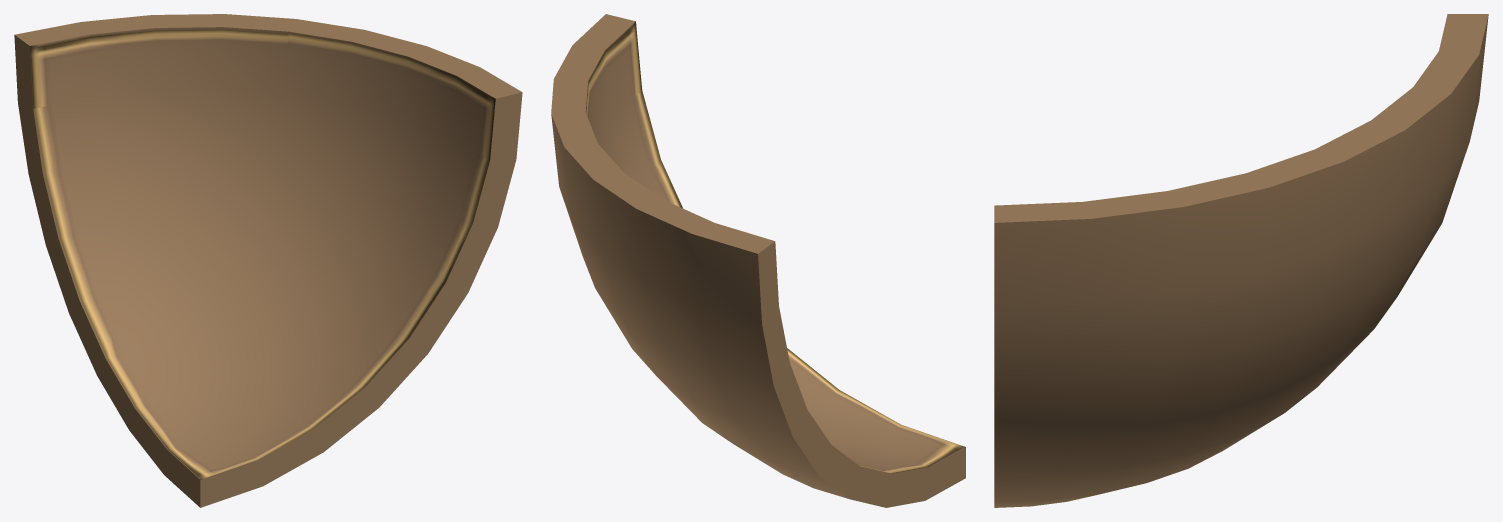
Rendered from egypt_quarter_corner.gltf.
3 renders of one model, left to right at view 1: azimuth 30°, elevation 25°; view 2: azimuth 150°, elevation 25°; view 3: azimuth 270°, elevation 25°, orthographic. The views are drawn at different scales.
Visible parts, largest first — view 1: egypt_quarter_corner_glb; view 2: egypt_quarter_corner_glb; view 3: egypt_quarter_corner_glb.
Boxes of the visible parts, x1,y1,x2,y2 form: egypt_quarter_corner_glb: (14, 14, 522, 507); egypt_quarter_corner_glb: (551, 14, 965, 507); egypt_quarter_corner_glb: (994, 14, 1488, 507).
Size of what is drawn, in the model's own units: 3 by 3 by 3.
Materials: 1 (1 with a texture image).
